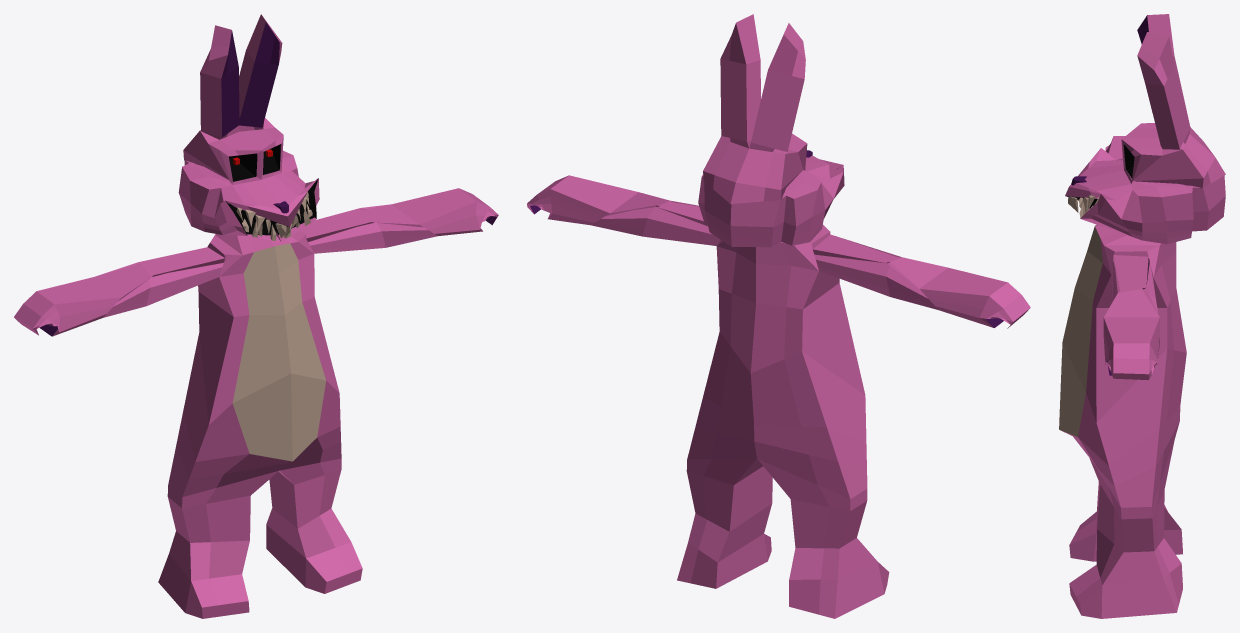
Rendered from bunny.obj.
3 views of the same model, side by side, from view 1: azimuth 30°, elevation 25°; view 2: azimuth 150°, elevation 25°; view 3: azimuth 270°, elevation 25° (orthographic). The views are drawn at different scales.
Parts seen in each view (by area): view 1: bunny; view 2: bunny; view 3: bunny.
Part boxes in pixels (x1=…): bunny: x1=14, y1=14, x2=498, y2=618; bunny: x1=527, y1=14, x2=1030, y2=618; bunny: x1=1059, y1=14, x2=1225, y2=618.
Bounding box in the file's own units: 16.51 × 18.55 × 5.07.
